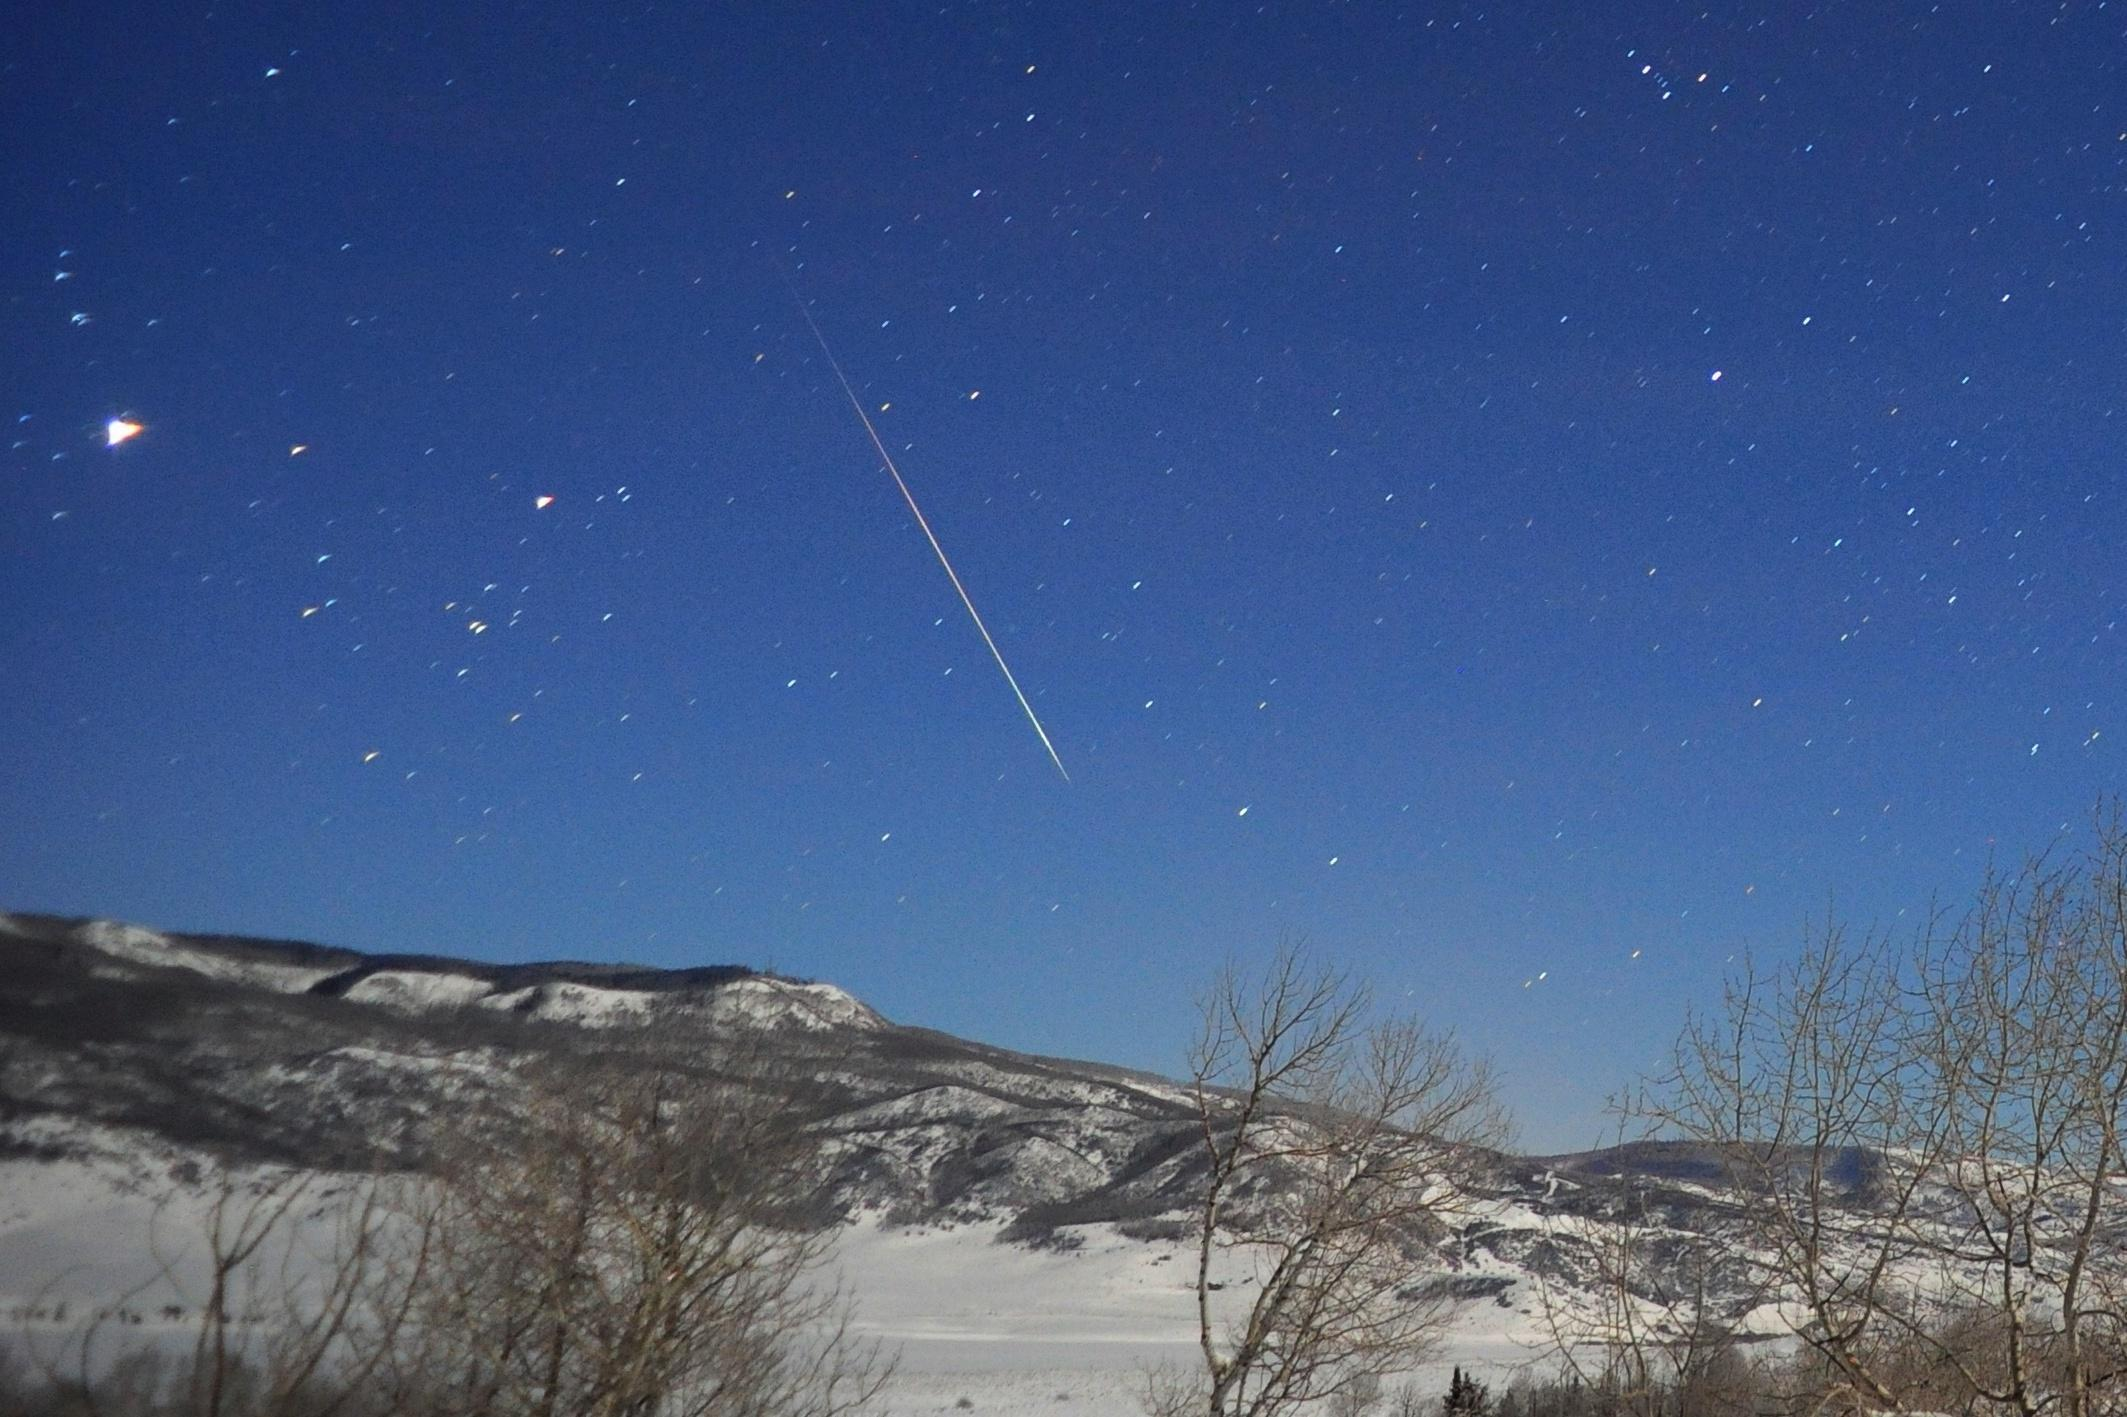meteorite: (765, 334, 1134, 840)
